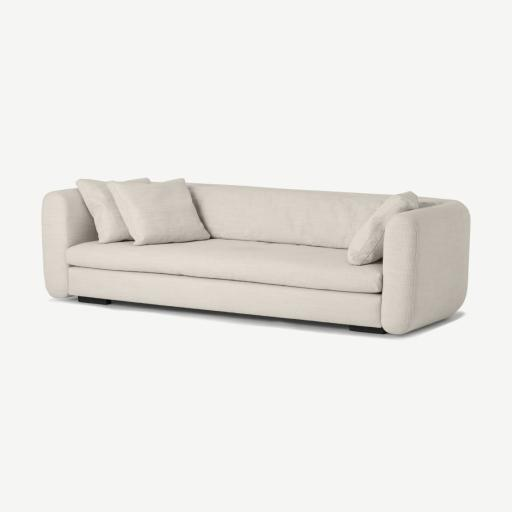back_cushion: (78, 180, 433, 249)
base: (69, 266, 381, 327)
left_arm: (380, 200, 470, 334)
right_arm: (42, 189, 96, 298)
seat_cushion: (66, 239, 382, 293)
two-seater: (0, 0, 511, 512)
